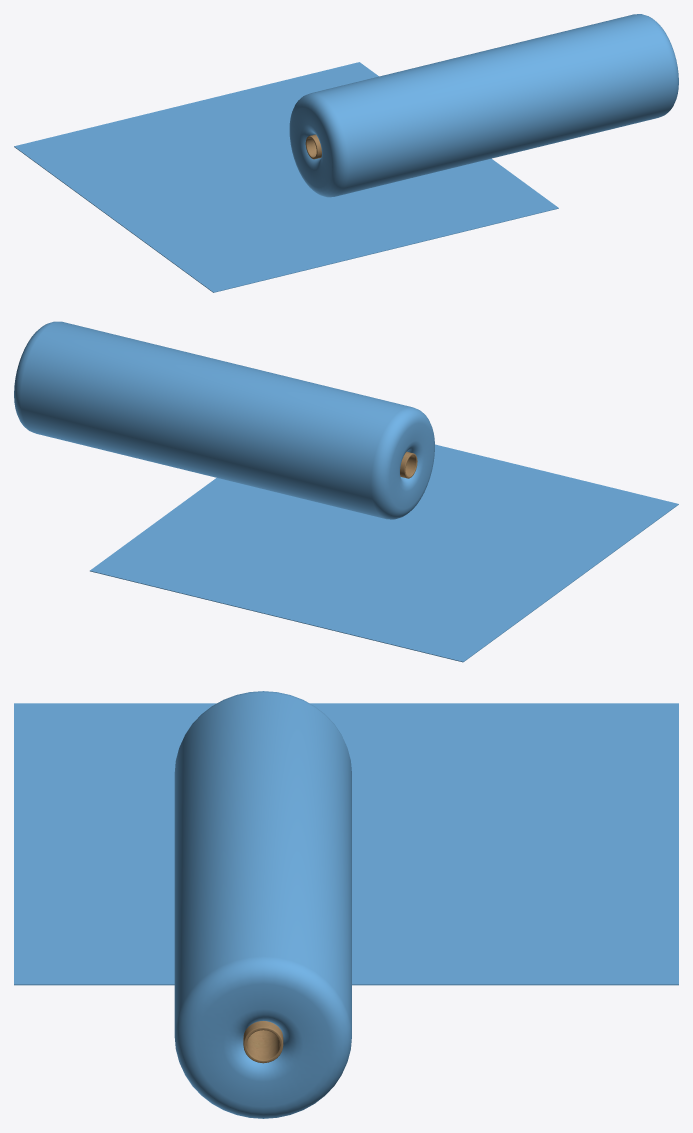
File: SER-AND-004.glb
3 views of the same model, one above another, from view 1: azimuth 30°, elevation 25°; view 2: azimuth 150°, elevation 25°; view 3: azimuth 270°, elevation 25° (orthographic). The views are drawn at different scales.
Visible parts, largest first — view 1: SER-AND-004_aba, SER-AND-004_rolo; view 2: SER-AND-004_aba, SER-AND-004_rolo; view 3: SER-AND-004_aba, SER-AND-004_rolo, SER-AND-004_tubete.
Boxes of the visible parts, x1,y1,x2,y2 form: SER-AND-004_aba: (14,62,558,292); SER-AND-004_rolo: (289,14,678,197); SER-AND-004_aba: (90,444,678,662); SER-AND-004_rolo: (14,321,434,519); SER-AND-004_aba: (14,703,678,985); SER-AND-004_rolo: (174,691,351,1118); SER-AND-004_tubete: (243,1021,283,1063).
Size of the model in its own units: 1.8 by 0.32 by 1.2.
2 materials, 1 textured.
